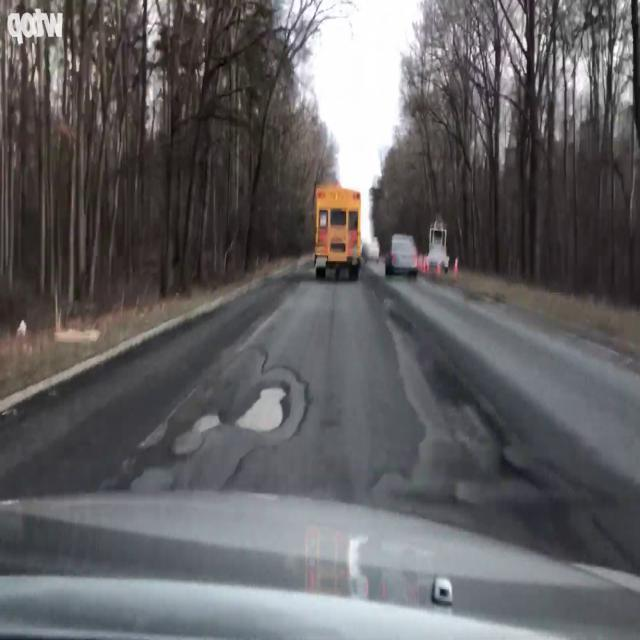pothole: (468, 401, 520, 475), (235, 382, 291, 432), (168, 413, 222, 454), (128, 460, 173, 492), (388, 310, 413, 331)
